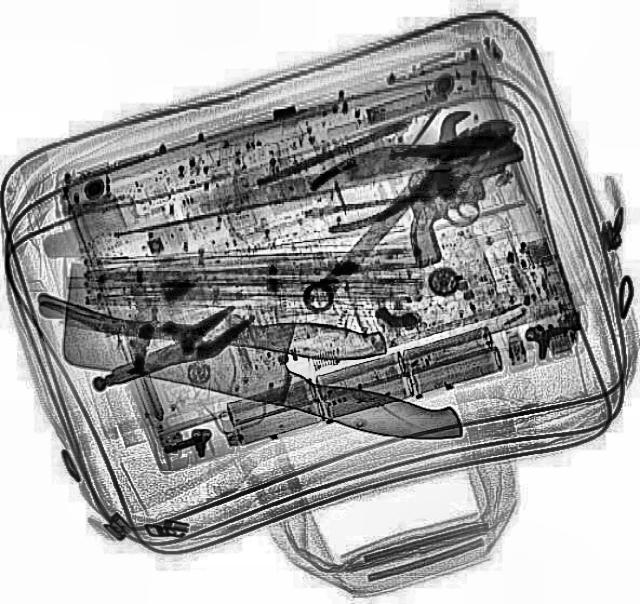Gun: (384, 138, 550, 268)
Knife: (42, 258, 486, 448), (56, 304, 386, 360)
Pliers: (299, 97, 531, 239)
Wrench: (293, 103, 492, 317)
